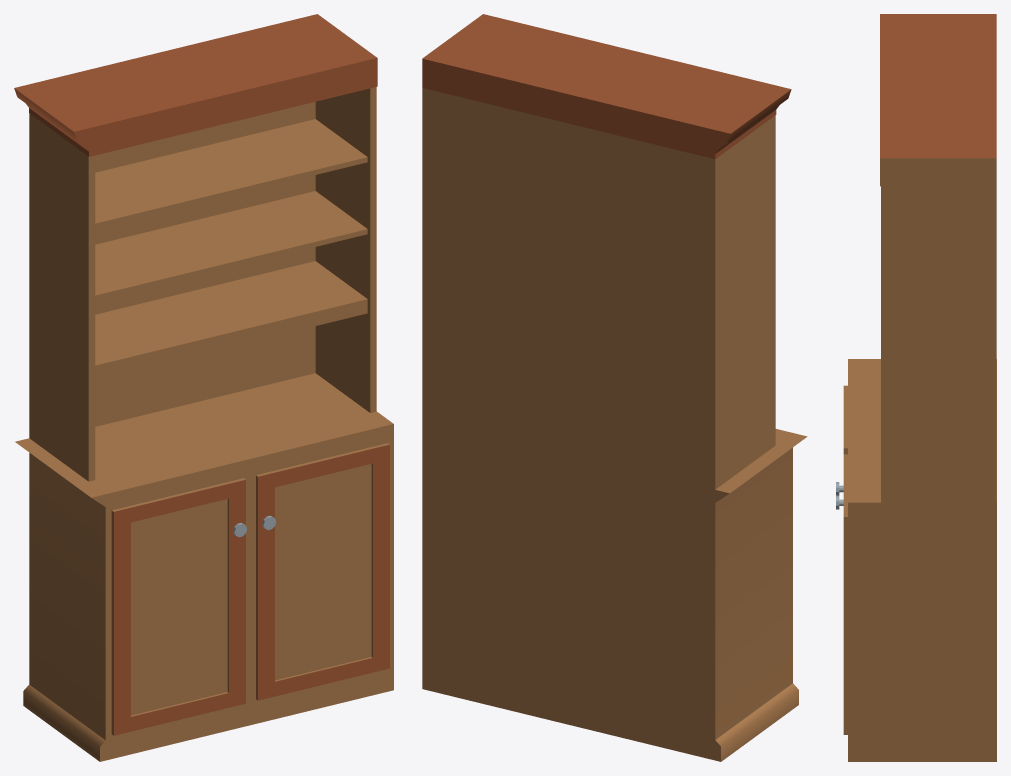
File: ShowCaseLeft.fbx
The picture shows the model from 3 angles, left to right: view 1: azimuth 30°, elevation 25°; view 2: azimuth 150°, elevation 25°; view 3: azimuth 270°, elevation 25°; orthographic projection. The views are drawn at different scales.
Parts seen in each view (by area): view 1: ShowCaseLeft; view 2: ShowCaseLeft; view 3: ShowCaseLeft.
Part boxes in pixels (left/top/right/bottom): ShowCaseLeft: left=14, top=14, right=393, bottom=761; ShowCaseLeft: left=422, top=14, right=807, bottom=761; ShowCaseLeft: left=836, top=14, right=996, bottom=761.
Bounding box in the file's own units: 122 × 238 × 57.45.
